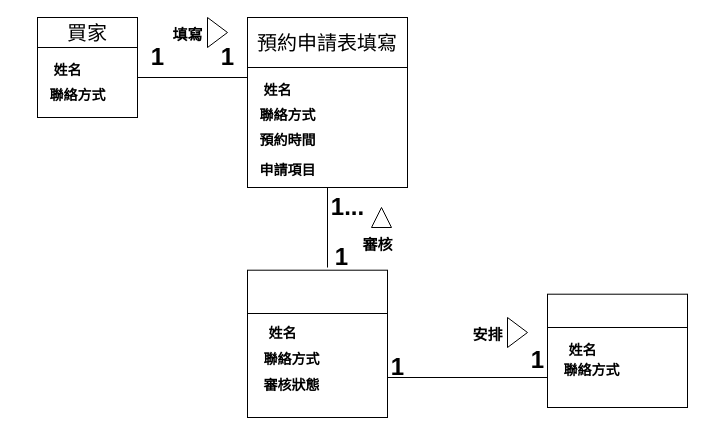
Some shapes in this 705 by 435 pixel diagram are drawn without their labels. Here are the shapes that lost their labels. From the top down, the centre of each, then its label:
At (x=317, y=291): "代銷管理員".
At (x=617, y=310): "閒置代銷人員".
